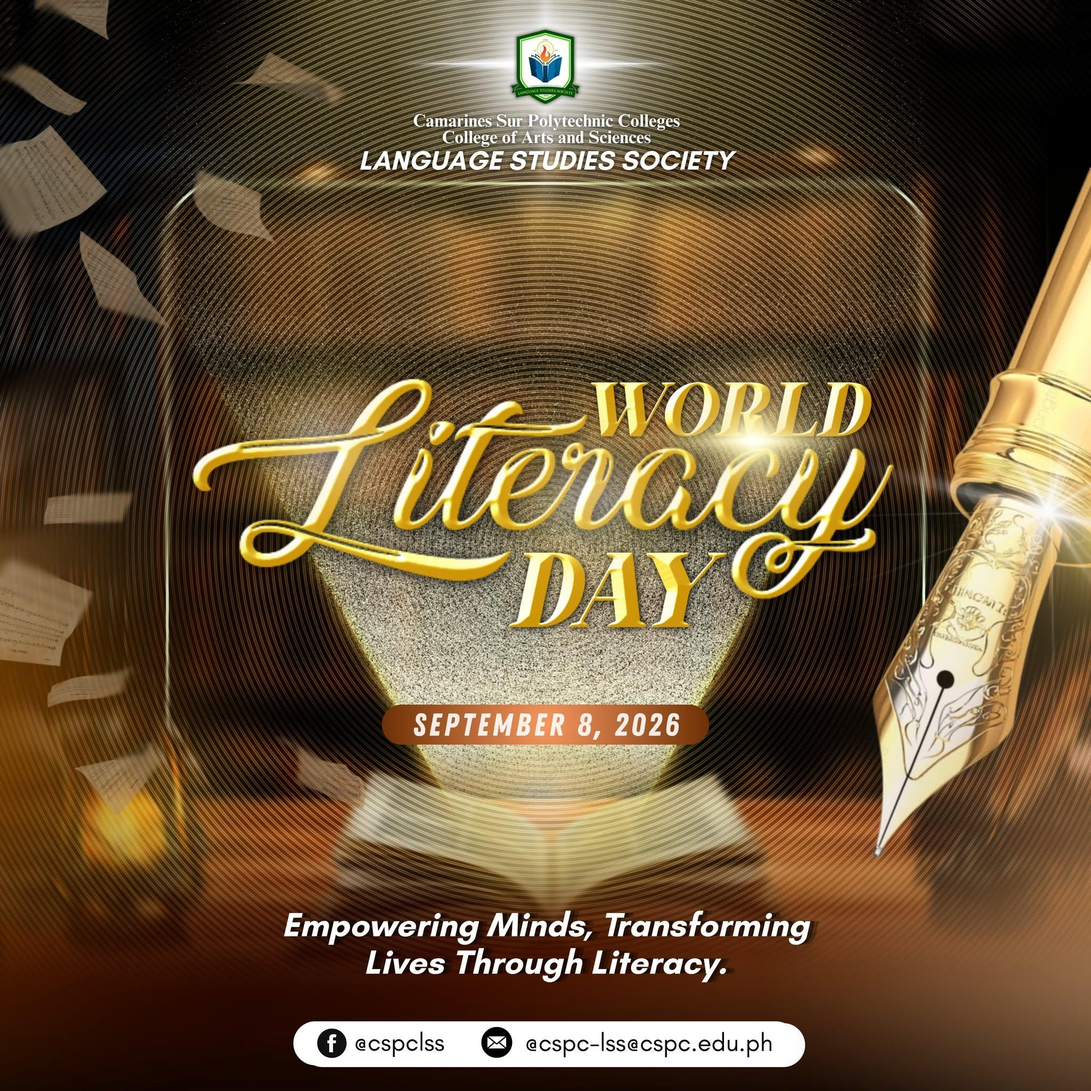embellishment: (868, 144, 1084, 867), (329, 760, 772, 924), (318, 1023, 349, 1064), (487, 1026, 511, 1059)
logo: (509, 29, 581, 105)
text: (170, 353, 895, 641), (277, 900, 815, 988), (350, 103, 744, 187), (410, 705, 683, 739), (524, 1028, 775, 1060), (355, 1032, 453, 1054)
underlay: (289, 1020, 807, 1067), (376, 700, 713, 745)
